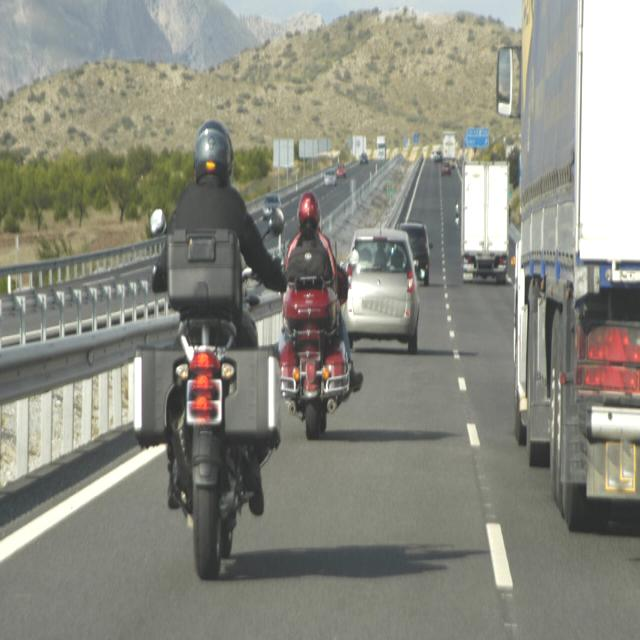MOTORCYCLE: (150, 212, 262, 563), (280, 239, 344, 431)
TRUCK: (461, 160, 510, 287)
